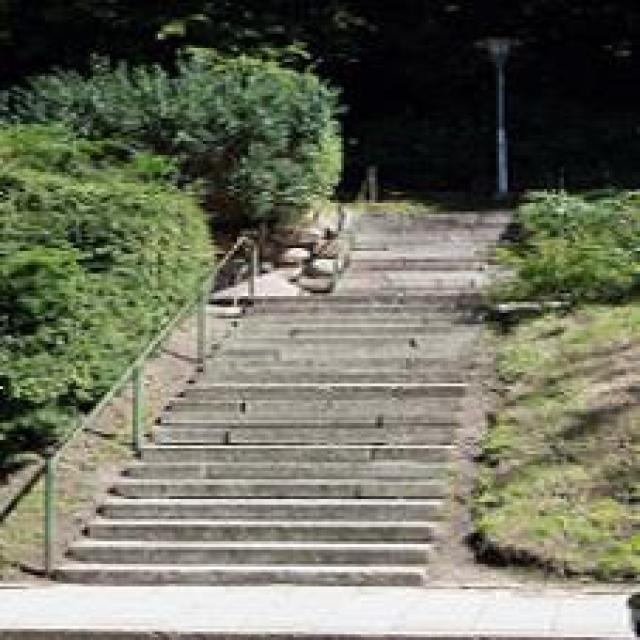stairs: (48, 206, 516, 586)
